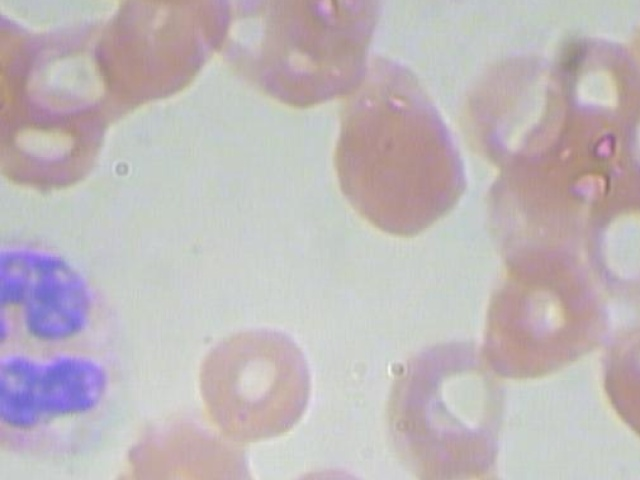RBC: (324, 50, 474, 237), (370, 318, 514, 480), (180, 311, 329, 451), (447, 25, 573, 175), (490, 224, 618, 367), (0, 0, 137, 132), (90, 0, 237, 104), (0, 77, 112, 194), (550, 14, 640, 137), (114, 415, 255, 480), (584, 156, 640, 311), (260, 454, 400, 480), (267, 462, 396, 480), (433, 465, 562, 480)
WBC: (0, 216, 160, 469)
